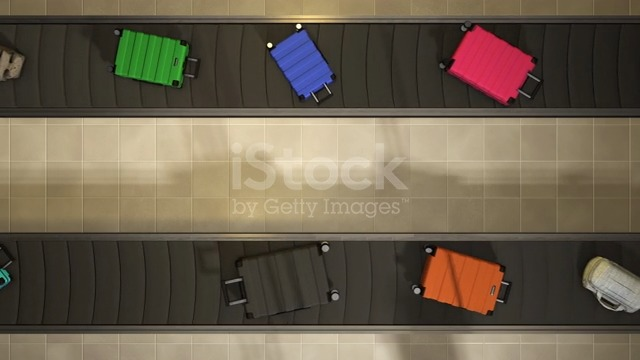Bag: (438, 17, 548, 107), (219, 242, 342, 322), (410, 243, 517, 322), (263, 21, 342, 110), (105, 26, 206, 95), (579, 253, 640, 322), (0, 44, 27, 86), (0, 242, 18, 297)
Handle: (221, 277, 251, 308), (516, 73, 544, 102), (308, 81, 335, 107), (182, 56, 202, 82), (494, 280, 513, 306), (0, 241, 16, 270)
Straps: (596, 291, 624, 311)
